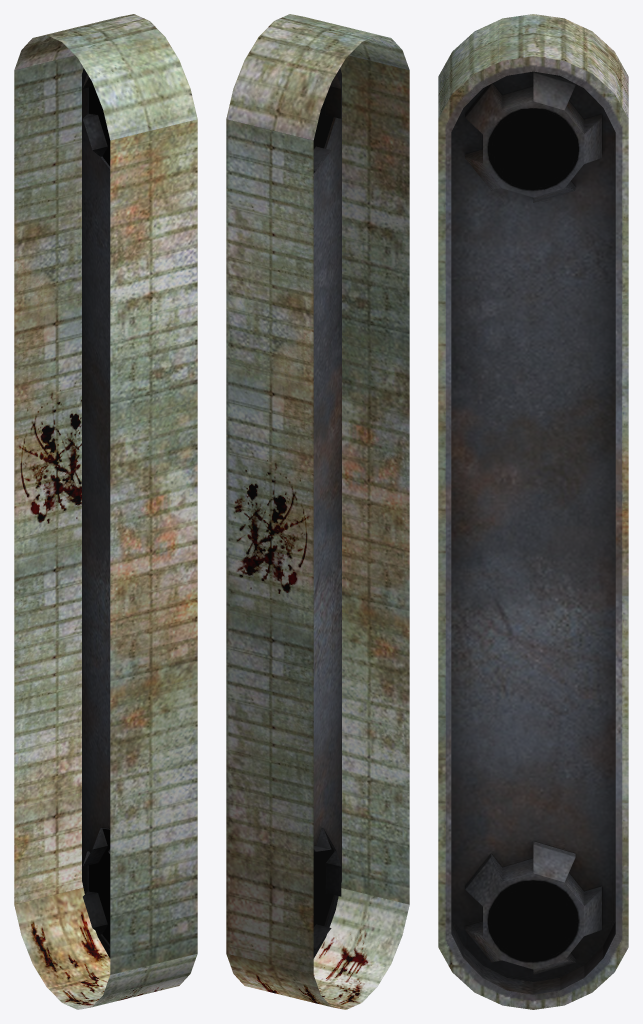
The model's file is rampe1.fbx.
3 views of the same model, side by side, from view 1: azimuth 30°, elevation 25°; view 2: azimuth 150°, elevation 25°; view 3: azimuth 270°, elevation 25° (orthographic).
Visible parts, largest first — view 1: pasted__elevatoire; view 2: pasted__elevatoire; view 3: pasted__elevatoire.
Part boxes in pixels (x1,y1,x2,y2): pasted__elevatoire: (14, 14, 197, 1009); pasted__elevatoire: (226, 14, 409, 1009); pasted__elevatoire: (438, 14, 628, 1009).
Size of the model in its own units: 1.05 by 10.5 by 1.9.
